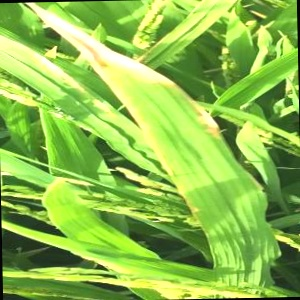Leaf_Blast: (121, 60, 215, 217)
